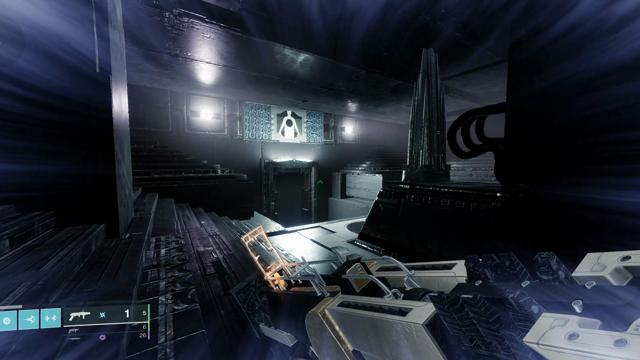grief: (277, 110, 302, 139)
